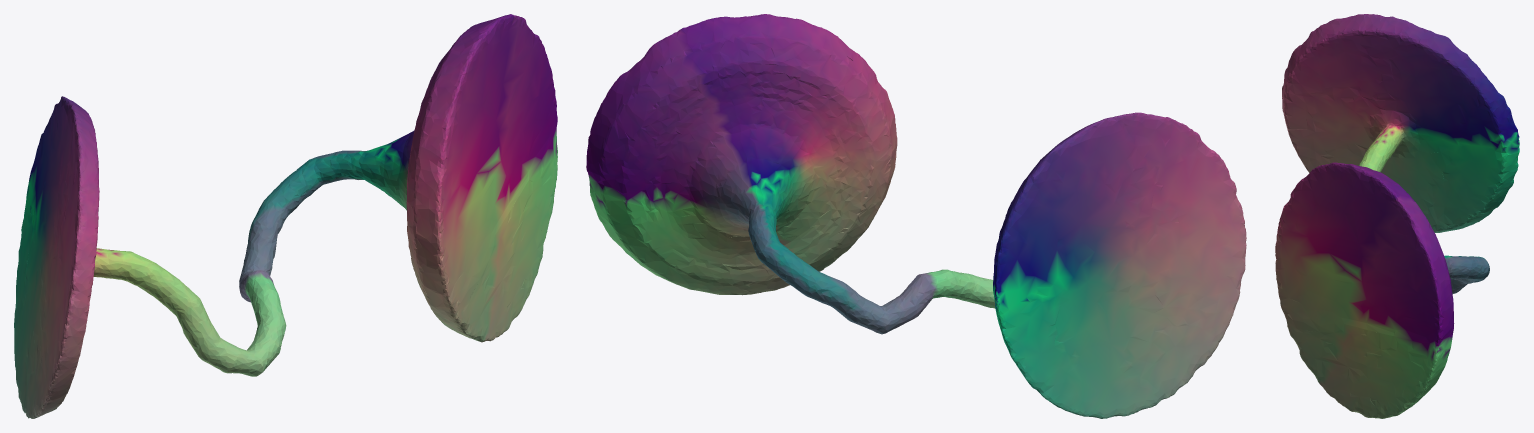
File: lamp-18.off.obj
3 views of the same model, side by side, from view 1: azimuth 30°, elevation 25°; view 2: azimuth 150°, elevation 25°; view 3: azimuth 270°, elevation 25° (orthographic). The views are drawn at different scales.
Size of the model in its own units: 1.68 by 0.8067 by 0.7543.
